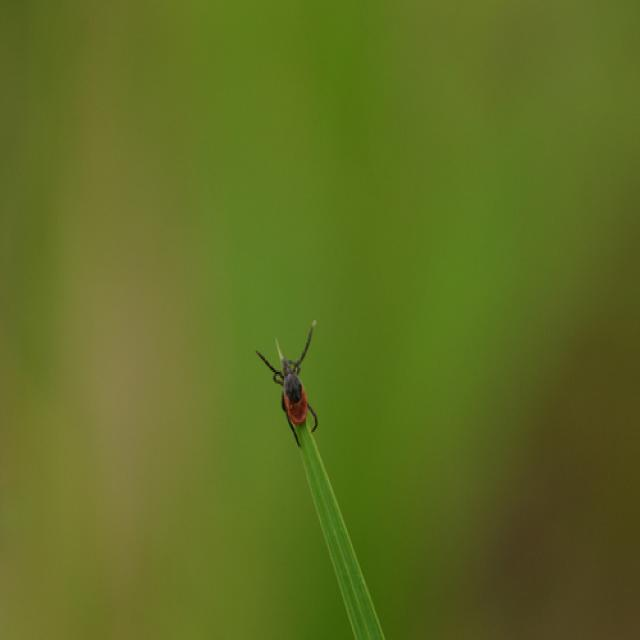Ixodes Ricinus-F-Fed: (256, 322, 319, 447)
